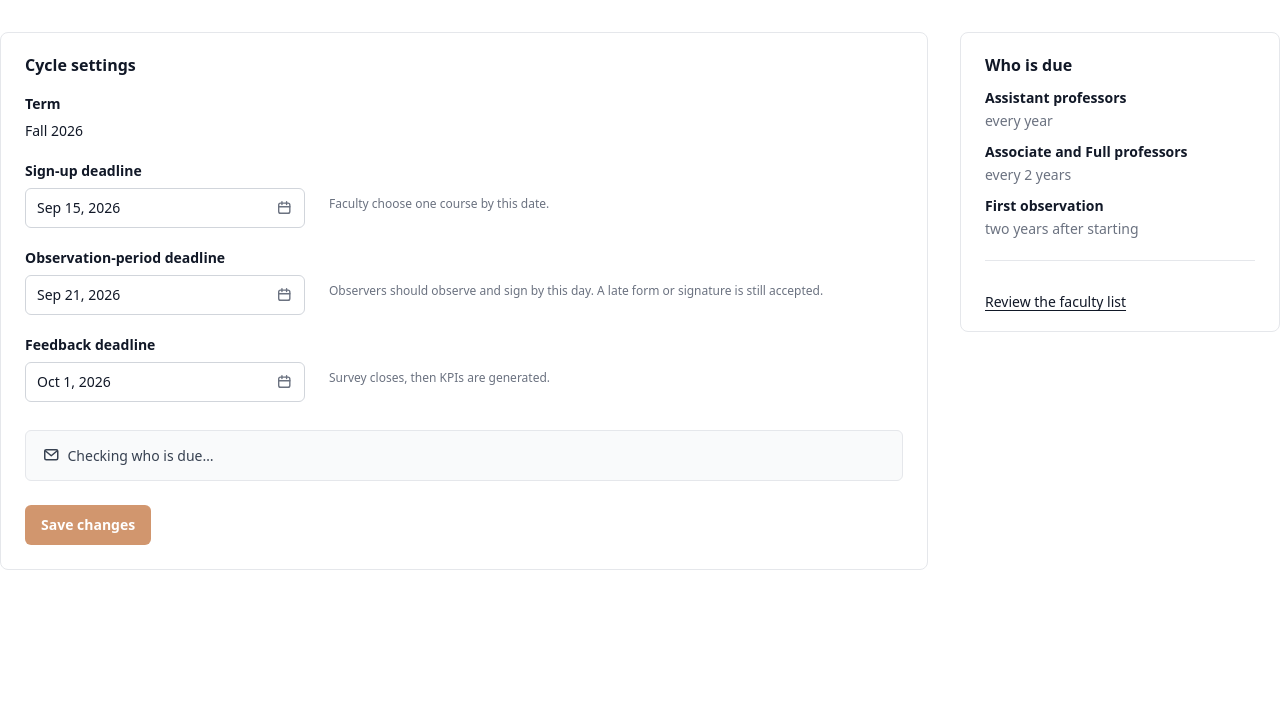
Scenario: Cycle page: an open cycle › checks the order against the cycle start date and shows a server error without losing the input
Step 1. Type "2026-08-31" into the date field labelled "Sign-up deadline" → [165, 208], box [25,188,305,228]
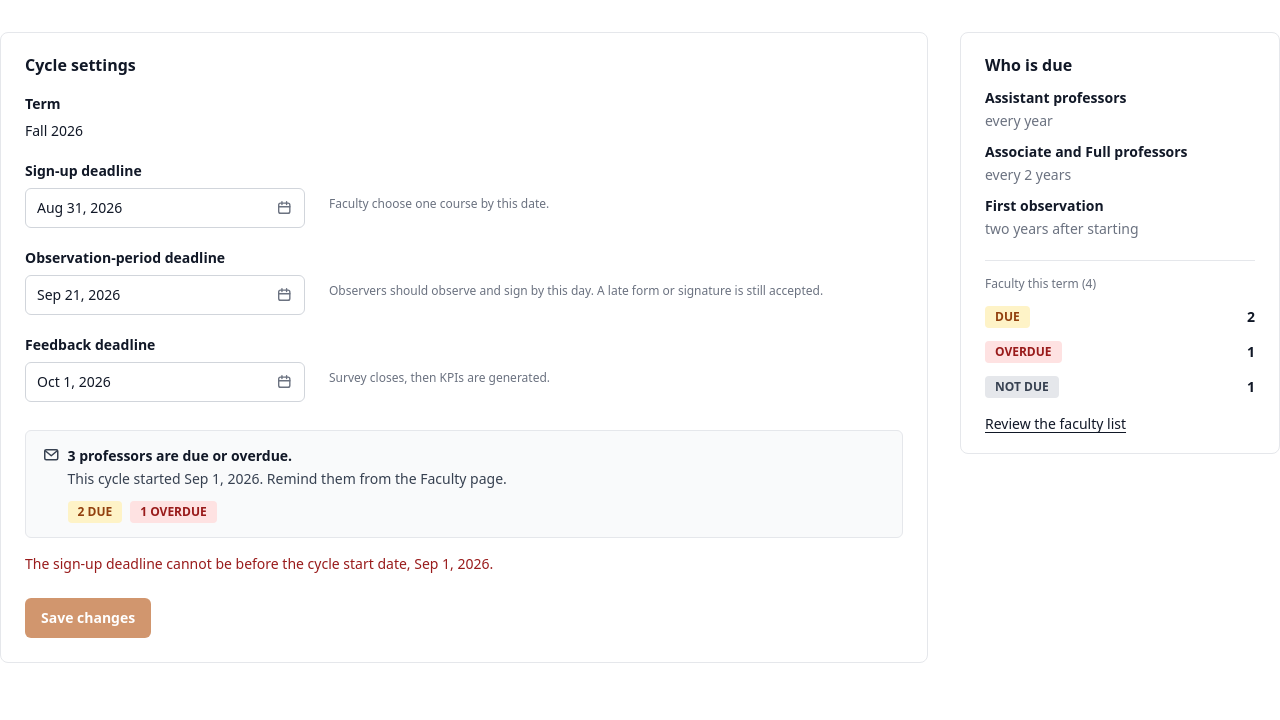
Expected: the button "Save changes" is disabled, [25,598,151,638]
Expected: the message reads "The sign-up deadline cannot be before the cycle start date, Sep 1, 2026.", [25,554,493,573]
Step 2. Type "2026-09-10" into the date field labelled "Sign-up deadline" → [165, 208], box [25,188,305,228]
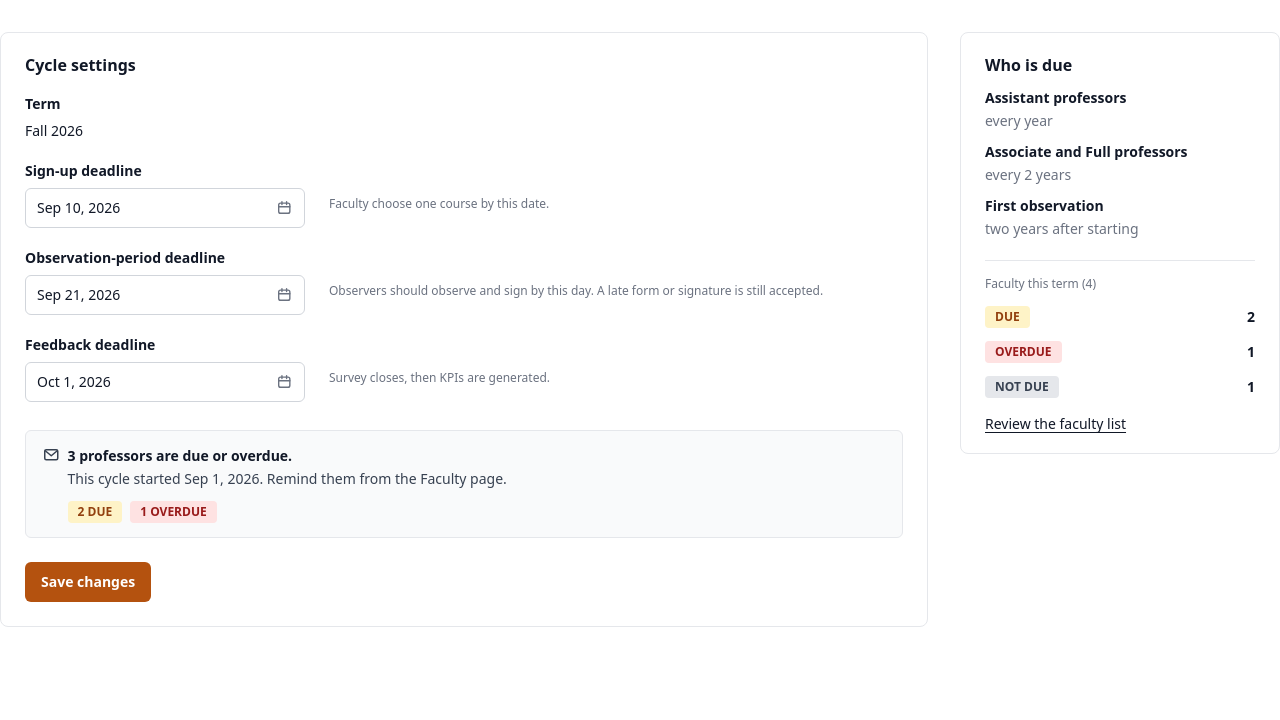
Step 3. Click the button "Save changes" → [88, 582], box [25,562,151,602]
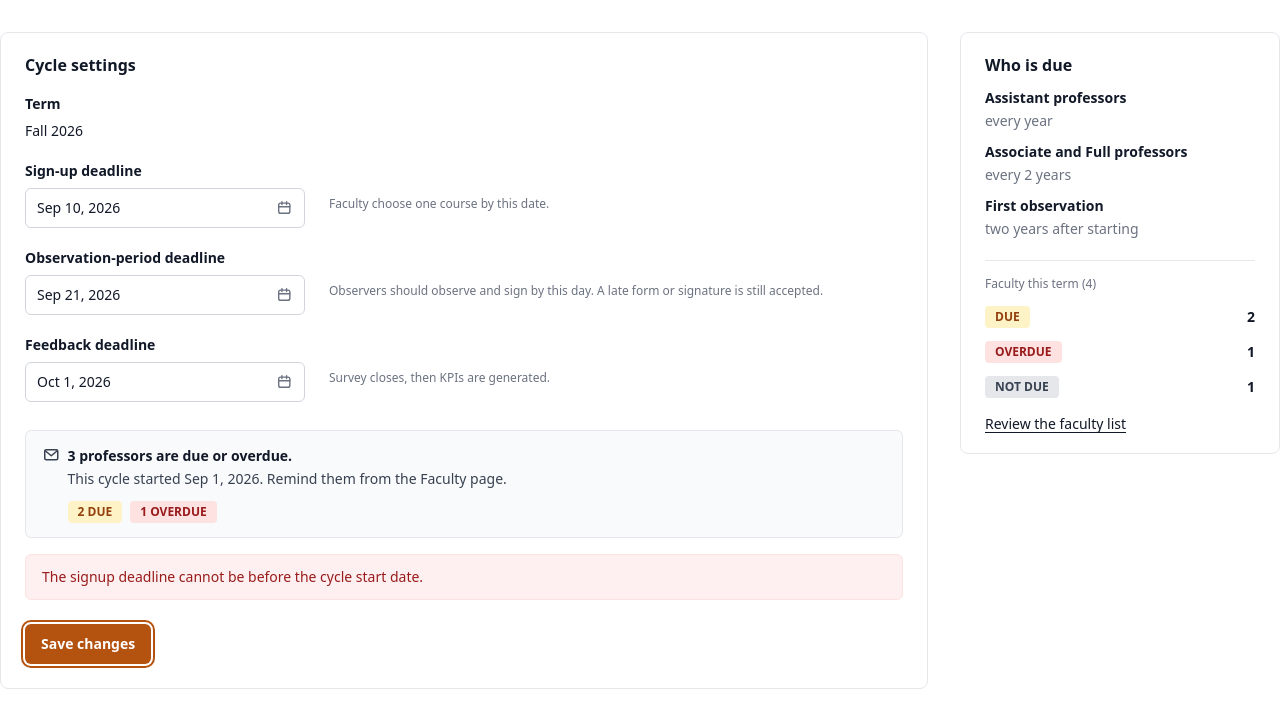
Expected: the message reads "The signup deadline cannot be before the cycle start date.", [42,567,423,586]
